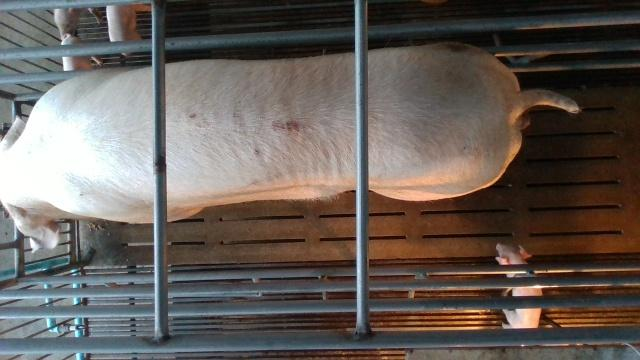piglet: (493, 243, 542, 329), (106, 3, 152, 41)
sow-stand-feed: (0, 41, 579, 253)
